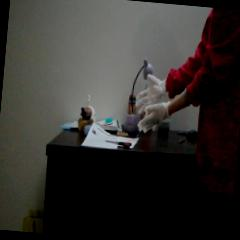gloved: (134, 74, 166, 109), (138, 100, 169, 135)
